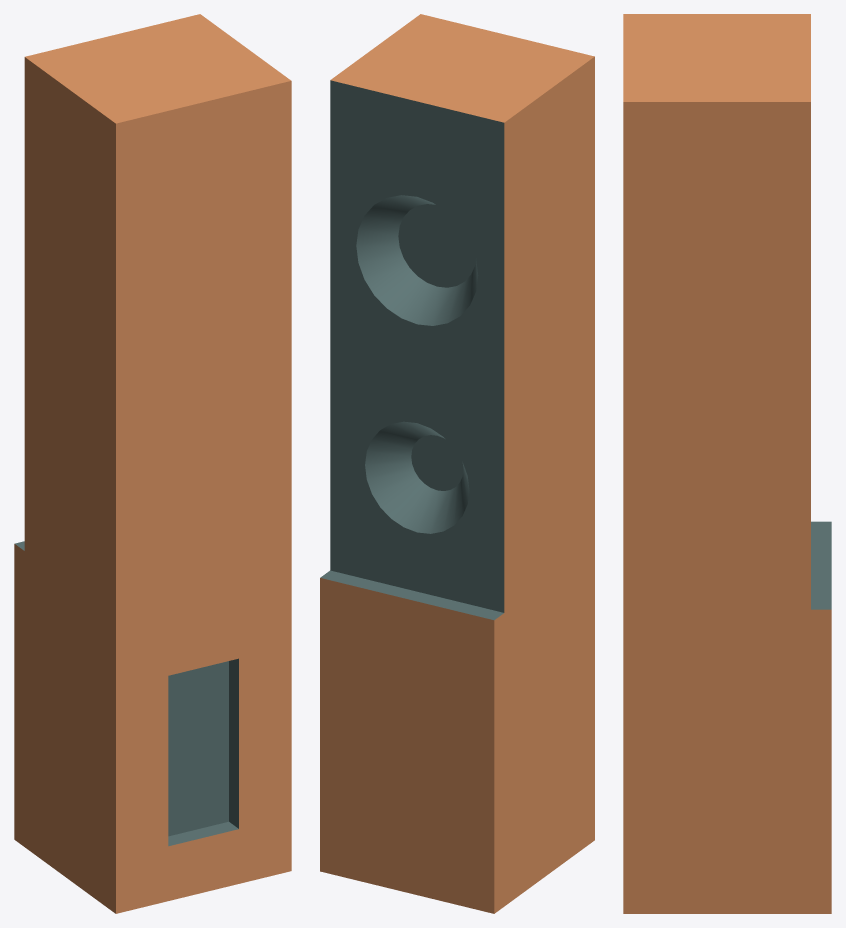
File: speaker.fbx
3 renders of one model, left to right at view 1: azimuth 30°, elevation 25°; view 2: azimuth 150°, elevation 25°; view 3: azimuth 270°, elevation 25°, orthographic. The views are drawn at different scales.
Visible parts, largest first — view 1: speaker; view 2: speaker; view 3: speaker.
Boxes of the visible parts, left/top/right/bottom form: speaker: left=14, top=14, right=291, bottom=913; speaker: left=320, top=14, right=594, bottom=913; speaker: left=623, top=14, right=831, bottom=913.
Bounding box in the file's own units: 1.48 × 6.36 × 1.48.
